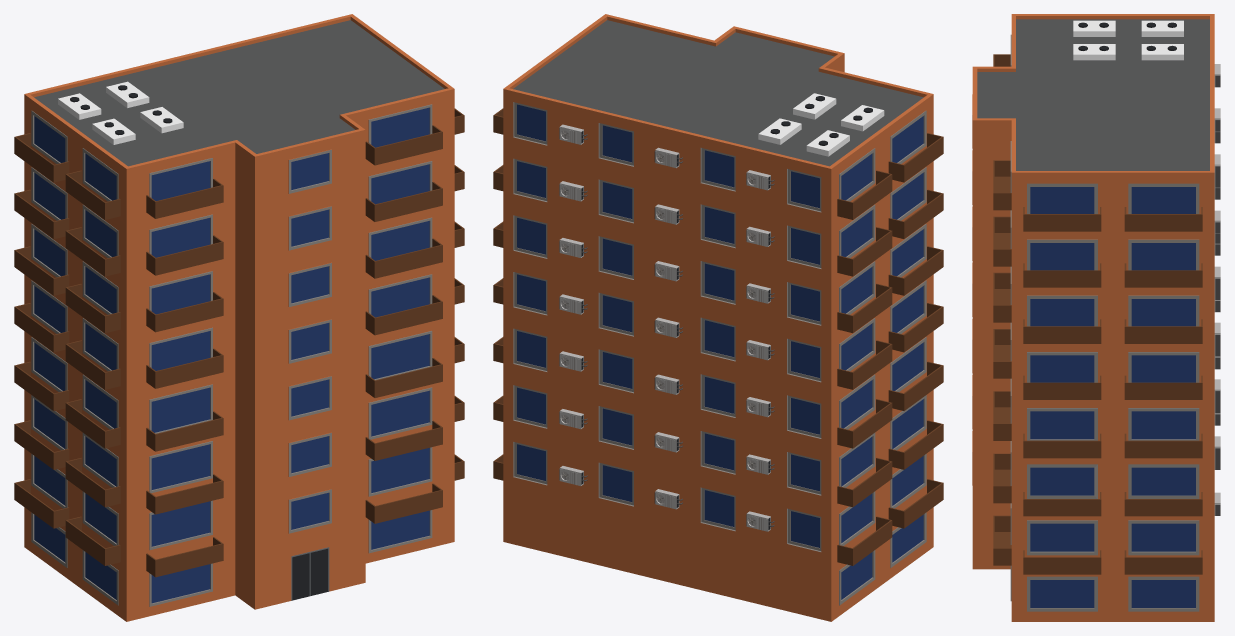
The model's file is Building_13.fbx.
3 views of the same model, side by side, from view 1: azimuth 30°, elevation 25°; view 2: azimuth 150°, elevation 25°; view 3: azimuth 270°, elevation 25° (orthographic).
Visible parts, largest first — view 1: Building_13; view 2: Building_13; view 3: Building_13.
Boxes of the visible parts, left/top/right/bottom form: Building_13: left=14, top=14, right=464, bottom=621; Building_13: left=493, top=14, right=943, bottom=621; Building_13: left=972, top=14, right=1220, bottom=621.
Size of the model in its own units: 1487 by 1804 by 898.
